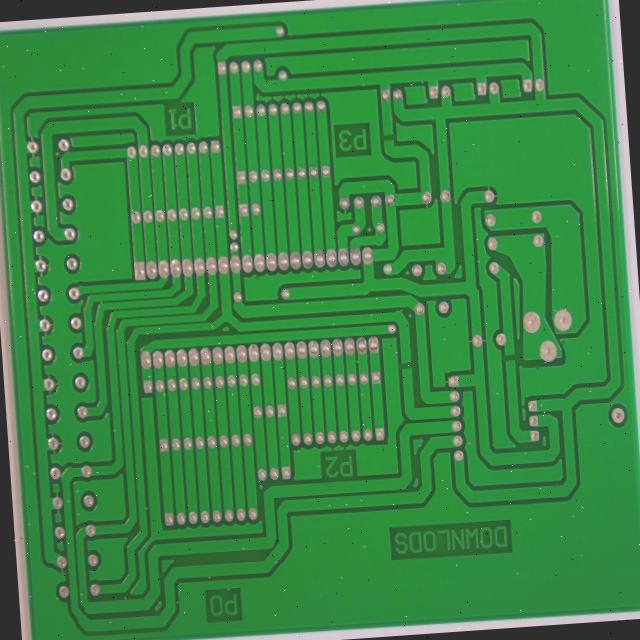open_circuit: (562, 409, 581, 430), (425, 151, 445, 170), (447, 420, 465, 439)
